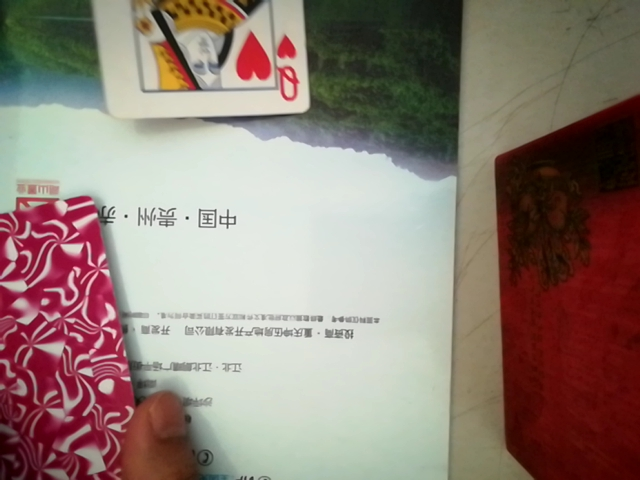hx q: (70, 1, 322, 124)
